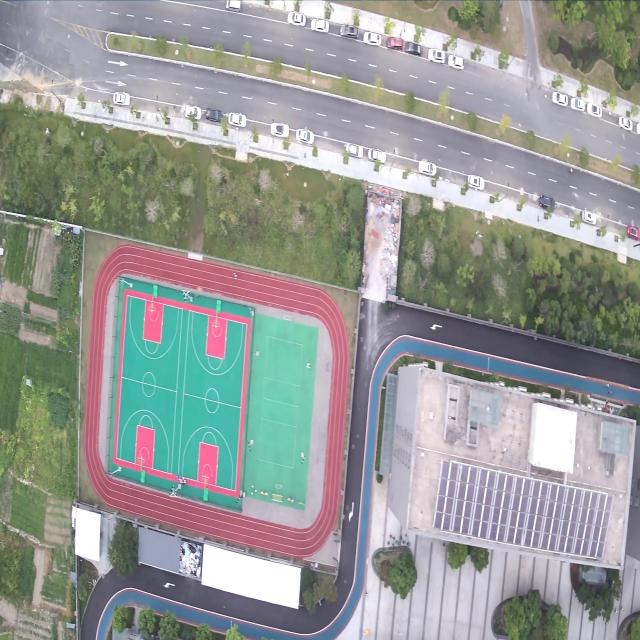UAV: (253, 197, 263, 205)
